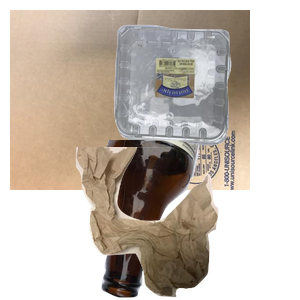cardboard: (10, 10, 250, 190)
glass: (99, 140, 300, 300)
plastic: (112, 22, 300, 160)
trash: (73, 147, 300, 300)
